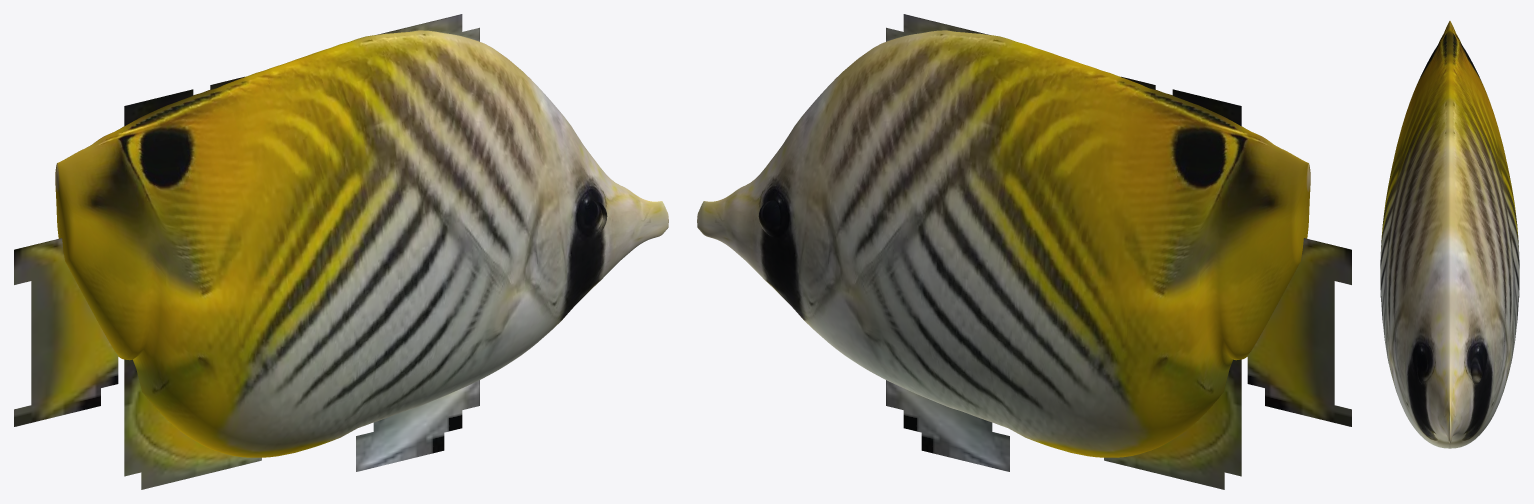
File: real-chaetodon_auriga.glb
The picture shows the model from 3 angles, left to right: view 1: azimuth 30°, elevation 25°; view 2: azimuth 150°, elevation 25°; view 3: azimuth 270°, elevation 25°; orthographic projection. The views are drawn at different scales.
Visible parts, largest first — view 1: chaetodon_auriga; view 2: chaetodon_auriga; view 3: chaetodon_auriga.
Boxes of the visible parts, <box> form: chaetodon_auriga: <box>14,14,668,489</box>; chaetodon_auriga: <box>697,14,1351,489</box>; chaetodon_auriga: <box>1380,21,1519,448</box>.
Bounding box in the file's own units: 0.23 × 0.1453 × 0.0516.
Materials: 1 (1 with a texture image).
